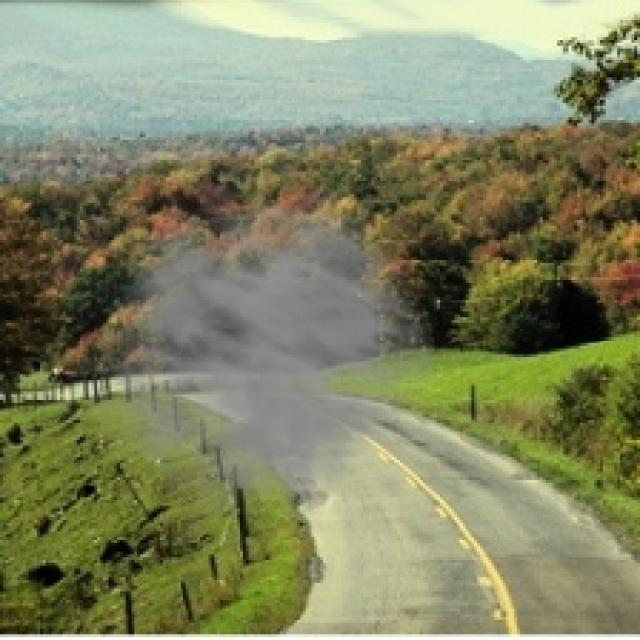smoke: (66, 186, 437, 531)
